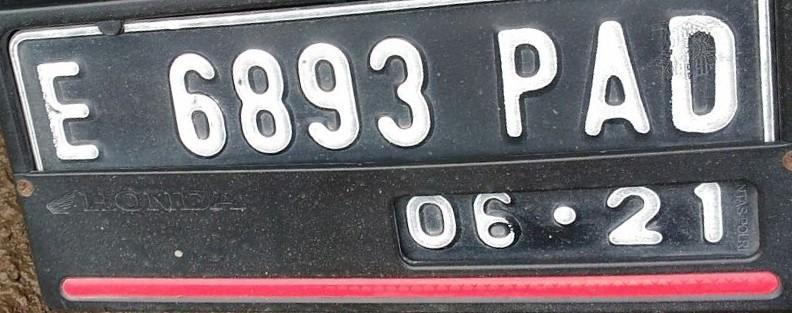clone-license-plate: (3, 5, 784, 276)
